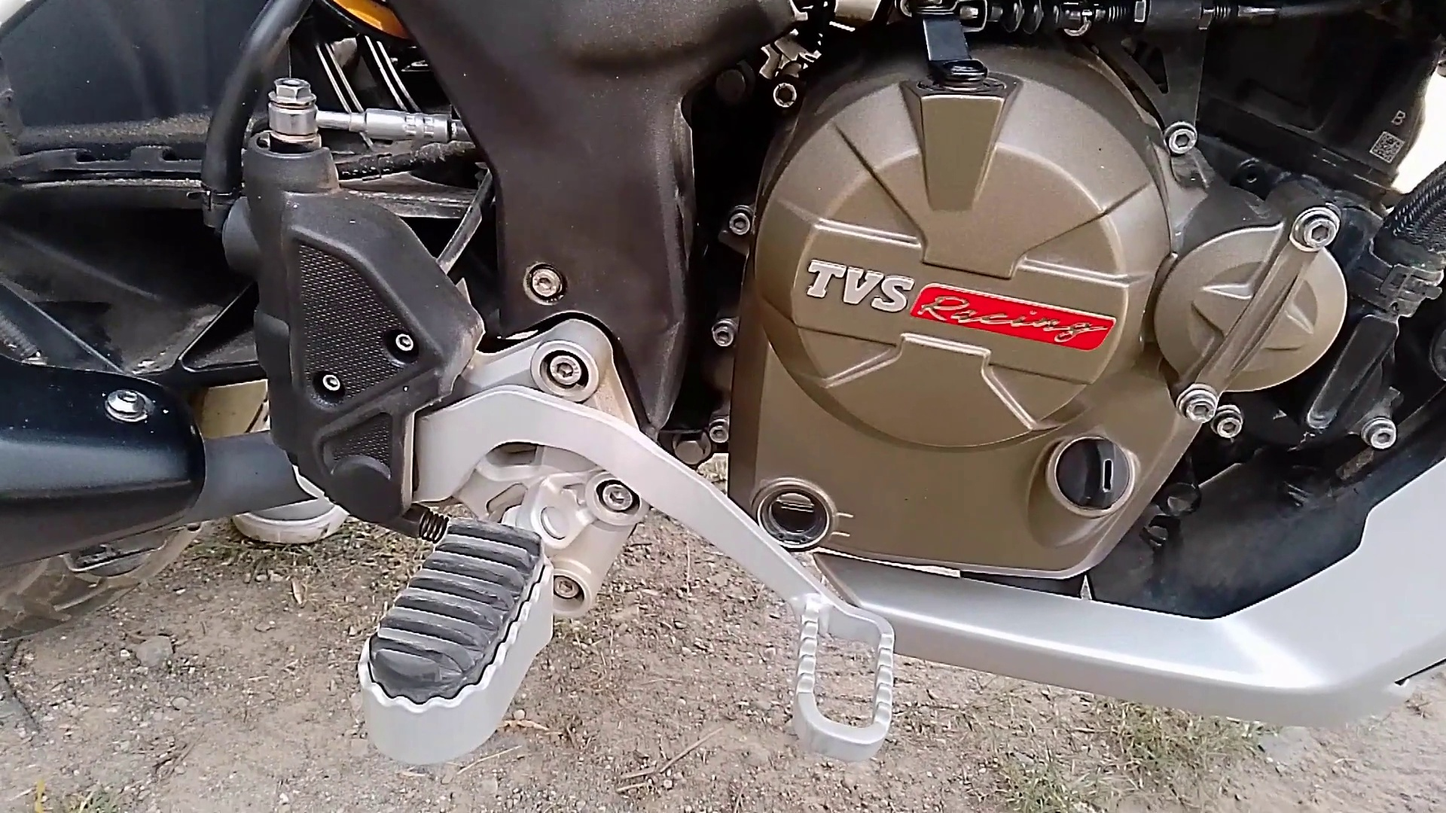bike-engine: (725, 35, 1360, 577)
bike-engine-level: (752, 472, 850, 554)
bike-oil-cap: (1038, 431, 1140, 517)
